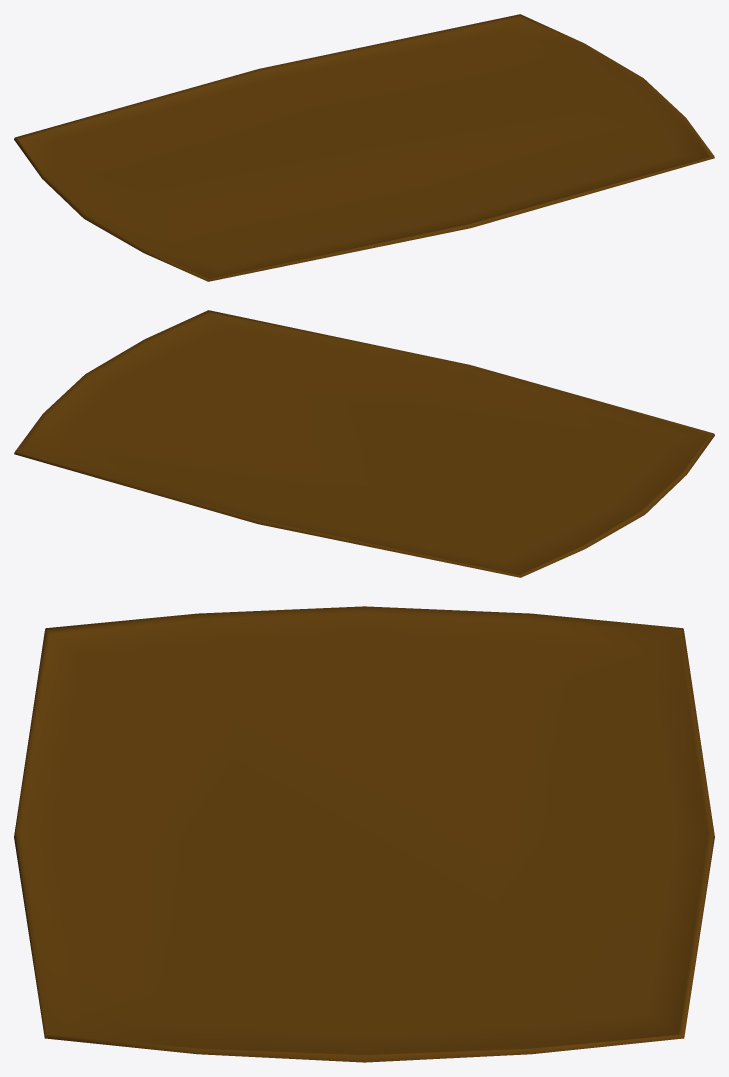
Rendered from Vassoio 1.FBX.
3 views of the same model, one above another, from view 1: azimuth 30°, elevation 25°; view 2: azimuth 150°, elevation 25°; view 3: azimuth 270°, elevation 25° (orthographic). The views are drawn at different scales.
Parts seen in each view (by area): view 1: Vassoio; view 2: Vassoio; view 3: Vassoio.
Part boxes in pixels (<box>): Vassoio: <box>14,14,714,281</box>; Vassoio: <box>14,310,714,577</box>; Vassoio: <box>14,606,714,1062</box>.
Size of the model in its own units: 59.79 by 1.38 by 39.28.
